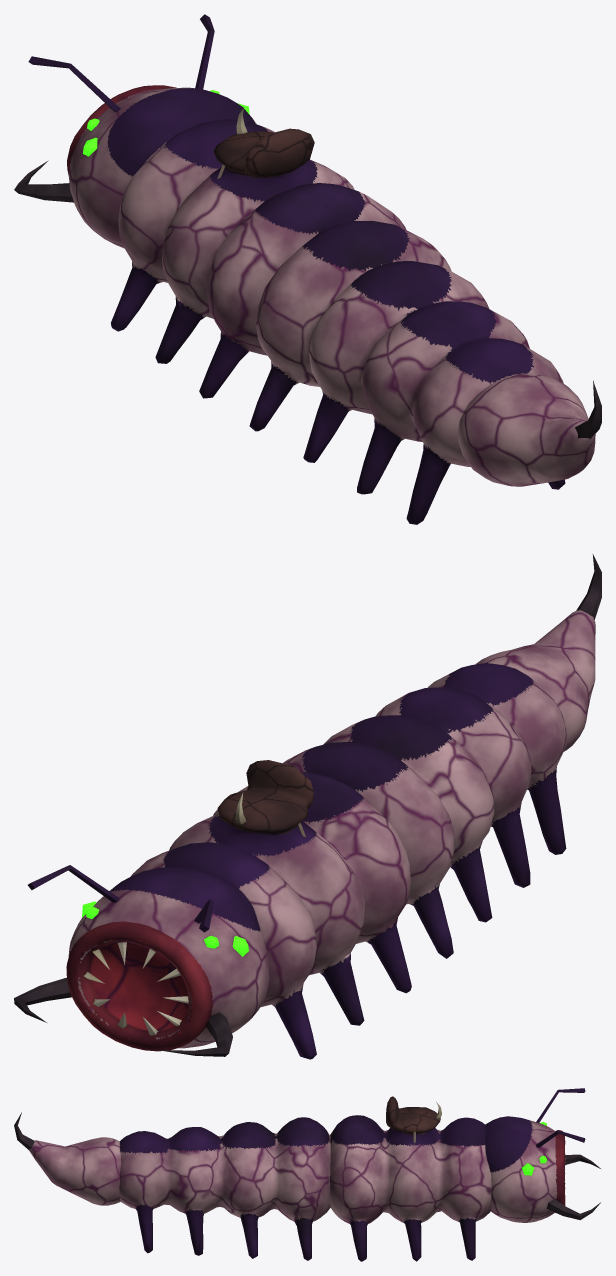
File: bestia_cria_gusano.fbx
3 renders of one model, top to bottom at view 1: azimuth 30°, elevation 25°; view 2: azimuth 150°, elevation 25°; view 3: azimuth 270°, elevation 25°, orthographic. The views are drawn at different scales.
Parts seen in each view (by area): view 1: cuerpo_trasero, cuerpo_delantero, cabeza, cola; view 2: cuerpo_trasero, cuerpo_delantero, cabeza, cola; view 3: cuerpo_trasero, cuerpo_delantero, cabeza, cola.
Part boxes in pixels (box(x1,y1,x2,y2)): cuerpo_trasero: box(249, 221, 565, 524); cuerpo_delantero: box(111, 107, 406, 398); cabeza: box(14, 14, 256, 248); cola: box(458, 373, 601, 486); cuerpo_trasero: box(283, 663, 567, 958); cuerpo_delantero: box(130, 760, 411, 1059); cabeza: box(14, 865, 269, 1056); cola: box(475, 554, 601, 751); cuerpo_trasero: box(119, 1117, 330, 1260); cuerpo_delantero: box(330, 1096, 491, 1261); cabeza: box(485, 1088, 600, 1222); cola: box(14, 1112, 121, 1205).
Bounding box in the file's own units: 3 × 3.01 × 12.
1 material, 1 textured.
